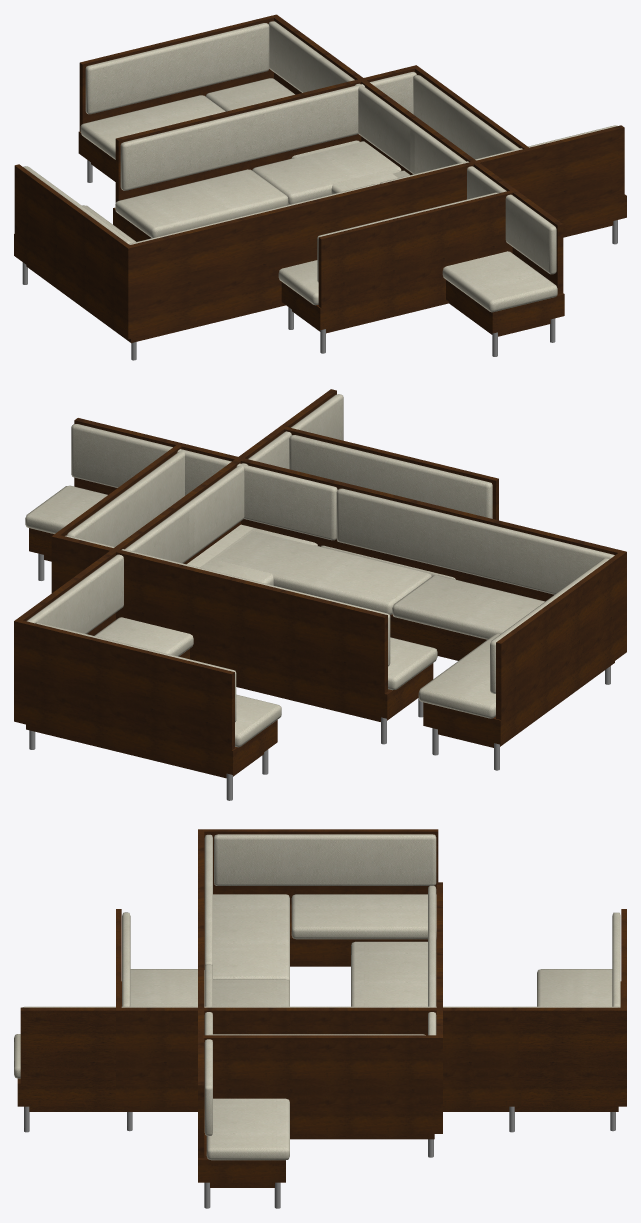
The model's file is int_sofa.FBX.
The picture shows the model from 3 angles, top to bottom: view 1: azimuth 30°, elevation 25°; view 2: azimuth 150°, elevation 25°; view 3: azimuth 270°, elevation 25°; orthographic projection. The views are drawn at different scales.
Visible parts, largest first — view 1: int_sofa_001, int_sofa_003, int_sofa_004, int_sofa_002; view 2: int_sofa_001, int_sofa_003, int_sofa_004, int_sofa_002; view 3: int_sofa_001, int_sofa_004, int_sofa_002, int_sofa_003.
Part boxes in pixels (<box>): int_sofa_001: <box>14,125,626,360</box>; int_sofa_003: <box>78,14,564,356</box>; int_sofa_004: <box>113,65,529,241</box>; int_sofa_002: <box>278,52,517,353</box>; int_sofa_001: <box>25,418,626,770</box>; int_sofa_003: <box>14,389,343,800</box>; int_sofa_004: <box>51,444,437,744</box>; int_sofa_002: <box>71,425,498,654</box>; int_sofa_001: <box>198,829,438,1208</box>; int_sofa_004: <box>202,882,442,1157</box>; int_sofa_002: <box>116,909,521,1132</box>; int_sofa_003: <box>14,909,626,1132</box>.
Bounding box in the file's own units: 442 × 99.08 × 442.
